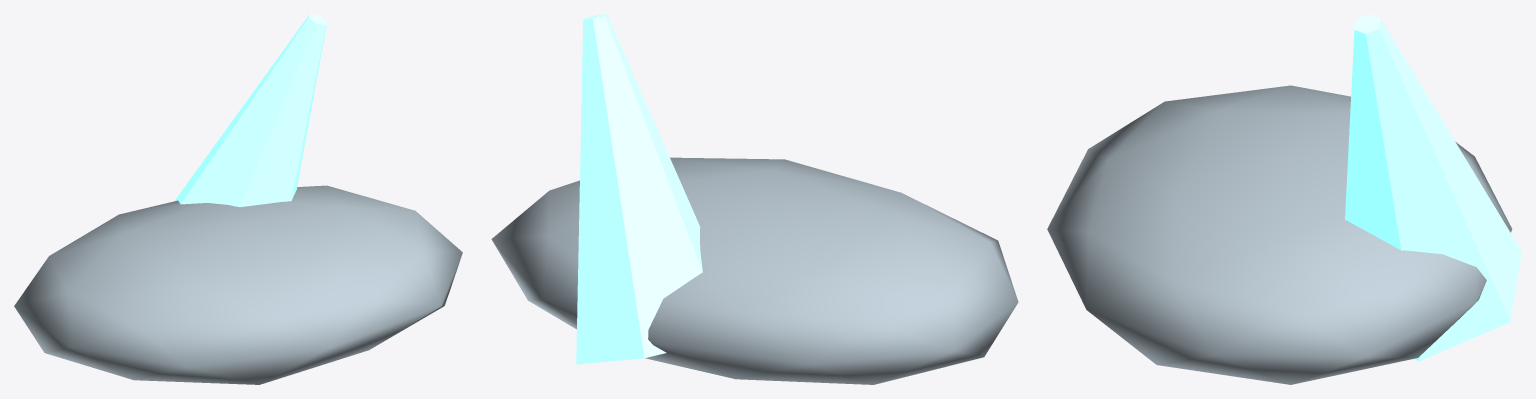
File: TILE_Open.glb
3 renders of one model, left to right at view 1: azimuth 30°, elevation 25°; view 2: azimuth 150°, elevation 25°; view 3: azimuth 270°, elevation 25°, orthographic. The views are drawn at different scales.
Visible parts, largest first — view 1: TILE_Open; view 2: TILE_Open; view 3: TILE_Open.
Part boxes in pixels (<box>): TILE_Open: <box>14,14,462,384</box>; TILE_Open: <box>491,14,1018,384</box>; TILE_Open: <box>1047,14,1521,384</box>.
Size of the model in its own units: 0.823 by 0.5393 by 0.6584.
